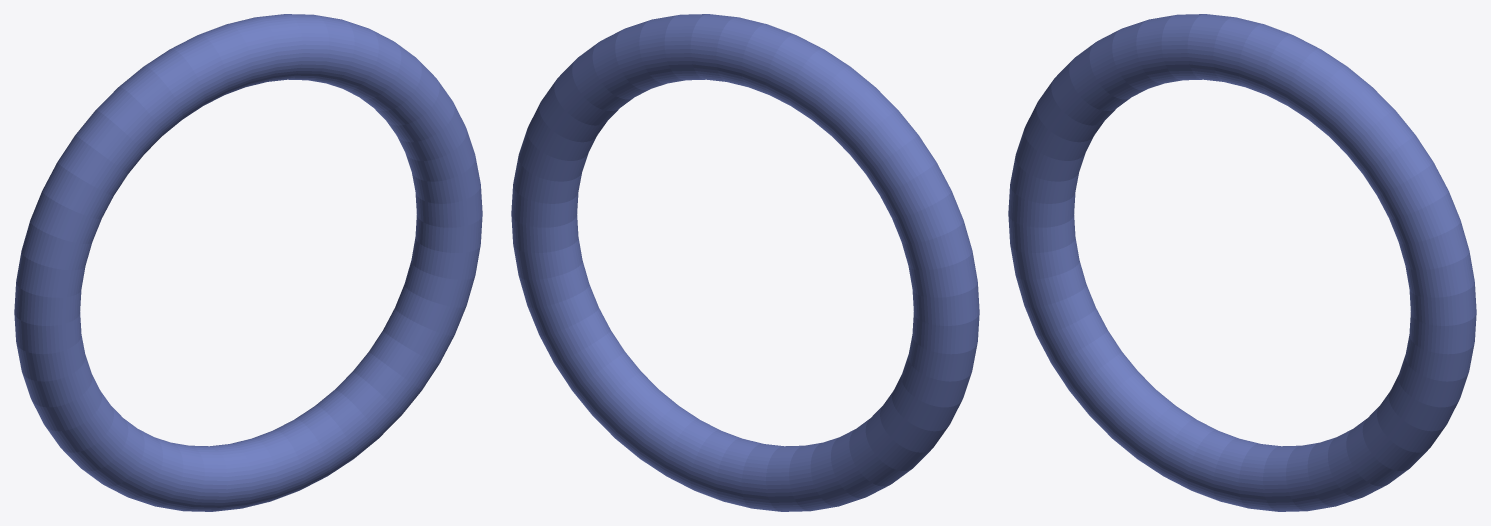
3 renders of one model, left to right at view 1: azimuth 30°, elevation 25°; view 2: azimuth 150°, elevation 25°; view 3: azimuth 330°, elevation 25°, orthographic.
Visible parts, largest first — view 1: world; view 2: world; view 3: world.
Part boxes in pixels (x1,y1,x2,y2): world: [14, 14, 482, 511]; world: [511, 14, 979, 511]; world: [1008, 14, 1476, 511].
Bounding box in the file's own units: 18.27 × 18.23 × 2.26.
